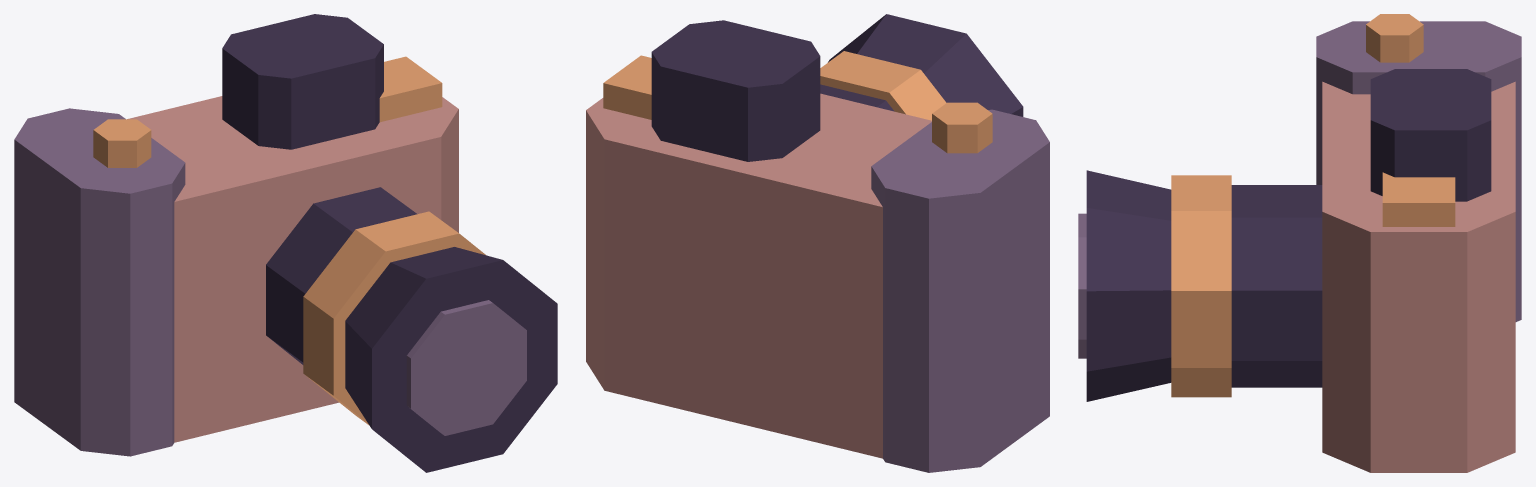
File: survey_camera.obj
The picture shows the model from 3 angles, left to right: view 1: azimuth 30°, elevation 25°; view 2: azimuth 150°, elevation 25°; view 3: azimuth 270°, elevation 25°; orthographic projection. The views are drawn at different scales.
Visible parts, largest first — view 1: survey_camera_mauve, survey_camera_deep_purple, survey_camera_dusty_rose, survey_camera_warm_orange; view 2: survey_camera_dusty_rose, survey_camera_mauve, survey_camera_deep_purple, survey_camera_warm_orange; view 3: survey_camera_dusty_rose, survey_camera_deep_purple, survey_camera_warm_orange, survey_camera_mauve.
Boxes of the visible parts, x1,y1,x2,y2 form: survey_camera_mauve: (14, 108, 526, 456); survey_camera_deep_purple: (222, 14, 557, 472); survey_camera_dusty_rose: (127, 96, 458, 442); survey_camera_warm_orange: (93, 56, 485, 425); survey_camera_dusty_rose: (586, 93, 931, 458); survey_camera_mauve: (871, 109, 1049, 472); survey_camera_deep_purple: (651, 14, 1023, 161); survey_camera_warm_orange: (603, 51, 992, 153); survey_camera_dusty_rose: (1322, 81, 1515, 472); survey_camera_deep_purple: (1086, 69, 1491, 401); survey_camera_warm_orange: (1171, 14, 1455, 397); survey_camera_mauve: (1078, 21, 1521, 358).
Size of the model in its own units: 0.185 by 0.1425 by 0.1835.
